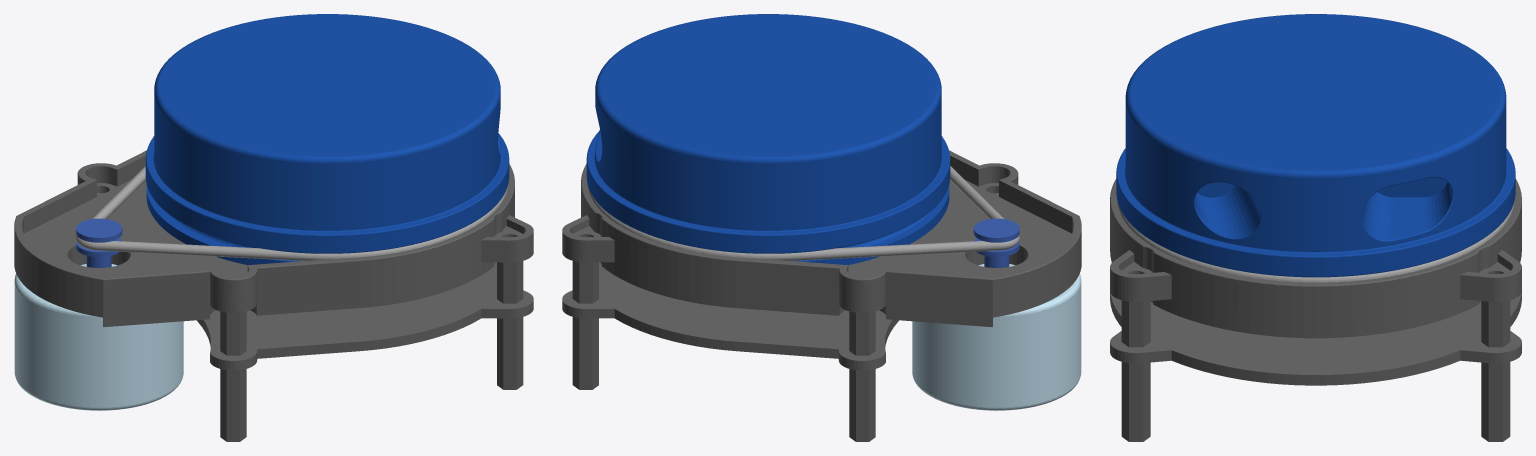
File: ydlidar_assy.dae
The picture shows the model from 3 angles, left to right: view 1: azimuth 30°, elevation 25°; view 2: azimuth 150°, elevation 25°; view 3: azimuth 270°, elevation 25°; orthographic projection. The views are drawn at different scales.
Parts seen in each view (by area): view 1: Document (×8); view 2: Document (×8); view 3: Document (×6).
Part boxes in pixels (left/top/right/bottom): Document (×8): left=14, top=14, right=533, bottom=441; Document (×8): left=562, top=14, right=1081, bottom=441; Document (×6): left=1110, top=14, right=1521, bottom=441.
Bounding box in the file's own units: 0.1014 × 0.071 × 0.0552.
